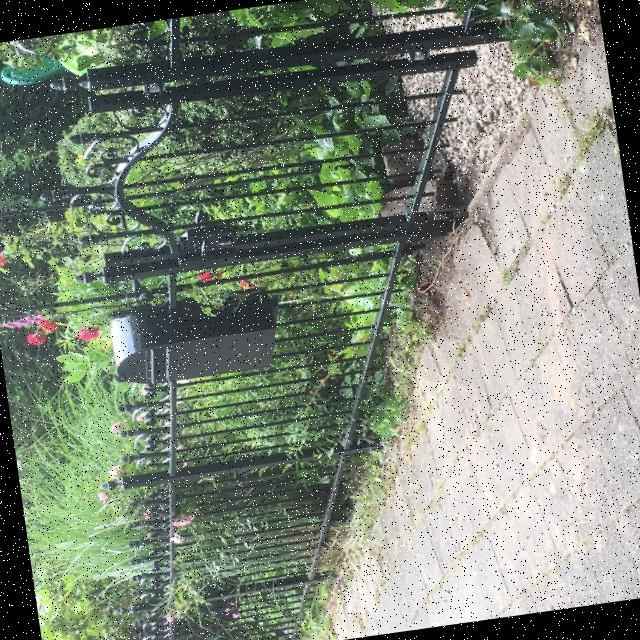fence line: (70, 0, 526, 311), (100, 345, 443, 639)
